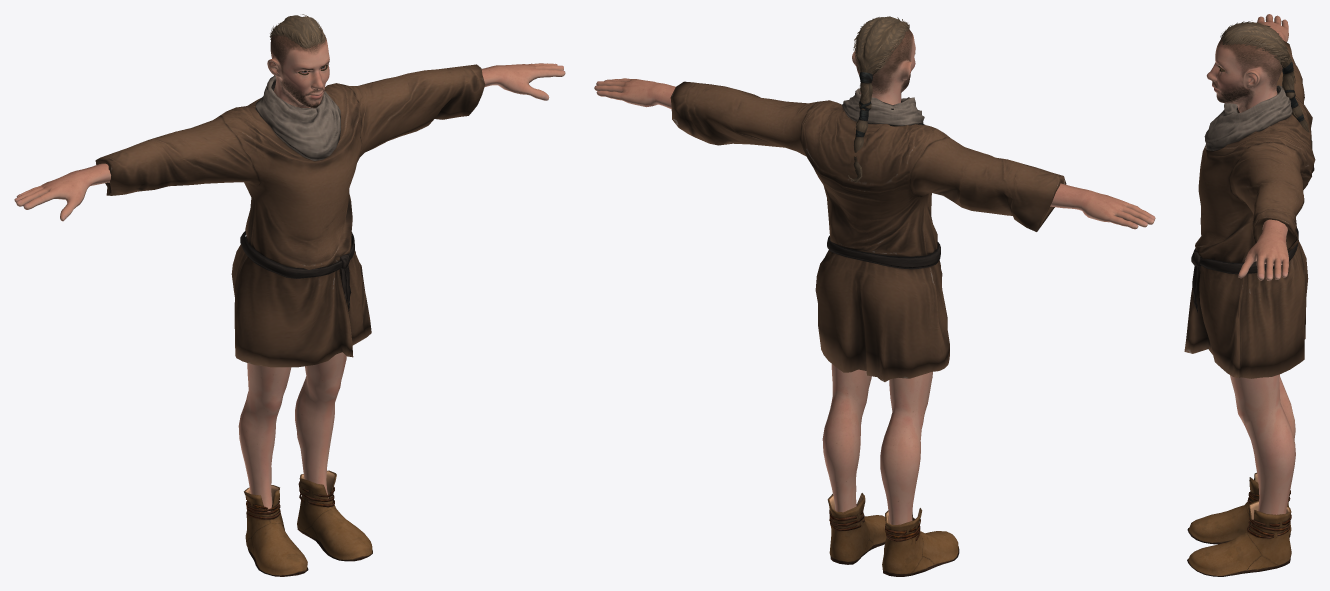
The model's file is Enemy_Original.obj.
The picture shows the model from 3 angles, left to right: view 1: azimuth 30°, elevation 25°; view 2: azimuth 150°, elevation 25°; view 3: azimuth 270°, elevation 25°; orthographic projection. The views are drawn at different scales.
Visible parts, largest first — view 1: Tops, Body, Shoes, Hair; view 2: Tops, Body, Shoes, Hair; view 3: Tops, Body, Shoes, Hair.
Boxes of the visible parts, x1=… form: Tops: x1=95, y1=64, x2=485, y2=367; Body: x1=14, y1=29, x2=565, y2=511; Shoes: x1=244, y1=470, x2=372, y2=576; Hair: x1=269, y1=14, x2=325, y2=75; Tops: x1=670, y1=81, x2=1066, y2=381; Body: x1=594, y1=28, x2=1155, y2=524; Shoes: x1=827, y1=493, x2=959, y2=576; Hair: x1=848, y1=16, x2=909, y2=183; Tops: x1=1184, y1=40, x2=1315, y2=378; Body: x1=1206, y1=14, x2=1295, y2=514; Shoes: x1=1187, y1=472, x2=1291, y2=576; Hair: x1=1220, y1=21, x2=1312, y2=151.
Bounding box in the file's own units: 195 × 180 × 40.47.
Materials: 4 (4 with a texture image).
